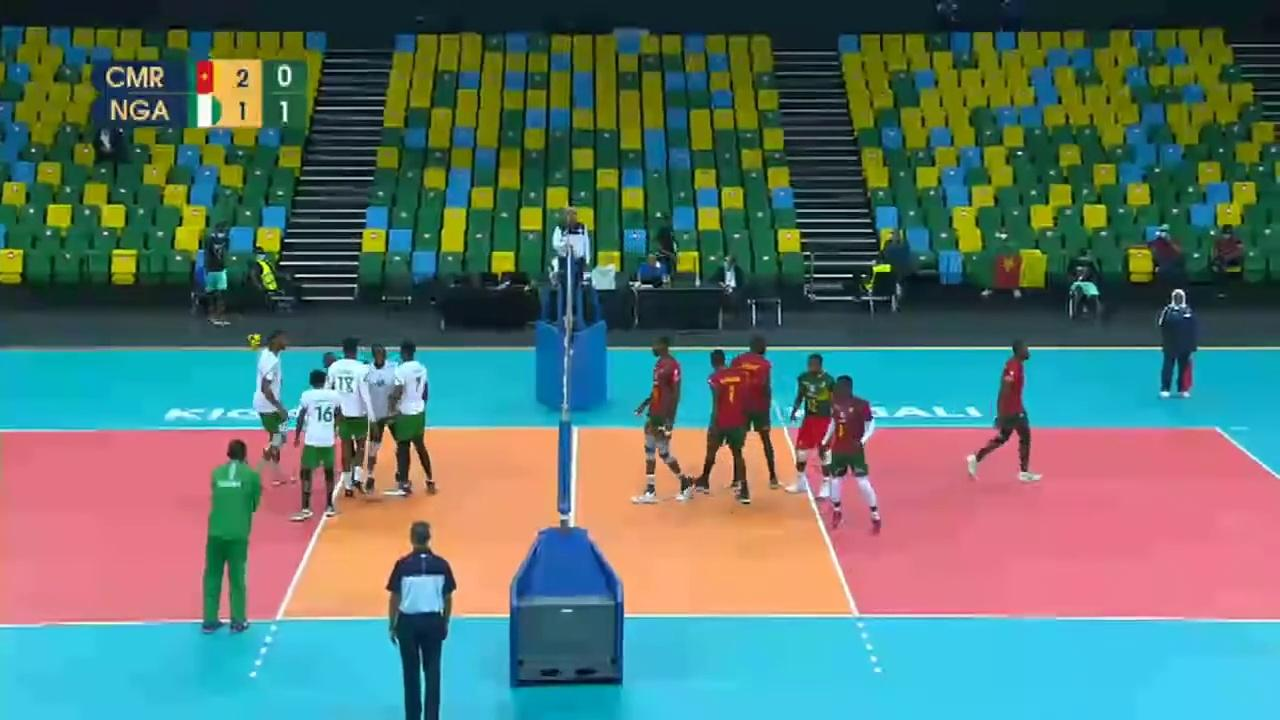player: (816, 374, 883, 530), (966, 344, 1038, 482), (629, 339, 690, 499), (723, 335, 784, 486), (379, 344, 439, 495), (700, 350, 750, 501), (290, 364, 337, 522), (244, 327, 291, 480), (329, 335, 372, 502), (788, 354, 836, 499), (364, 341, 407, 486)
refree: (383, 518, 462, 720), (548, 203, 599, 317), (1158, 289, 1199, 398)
